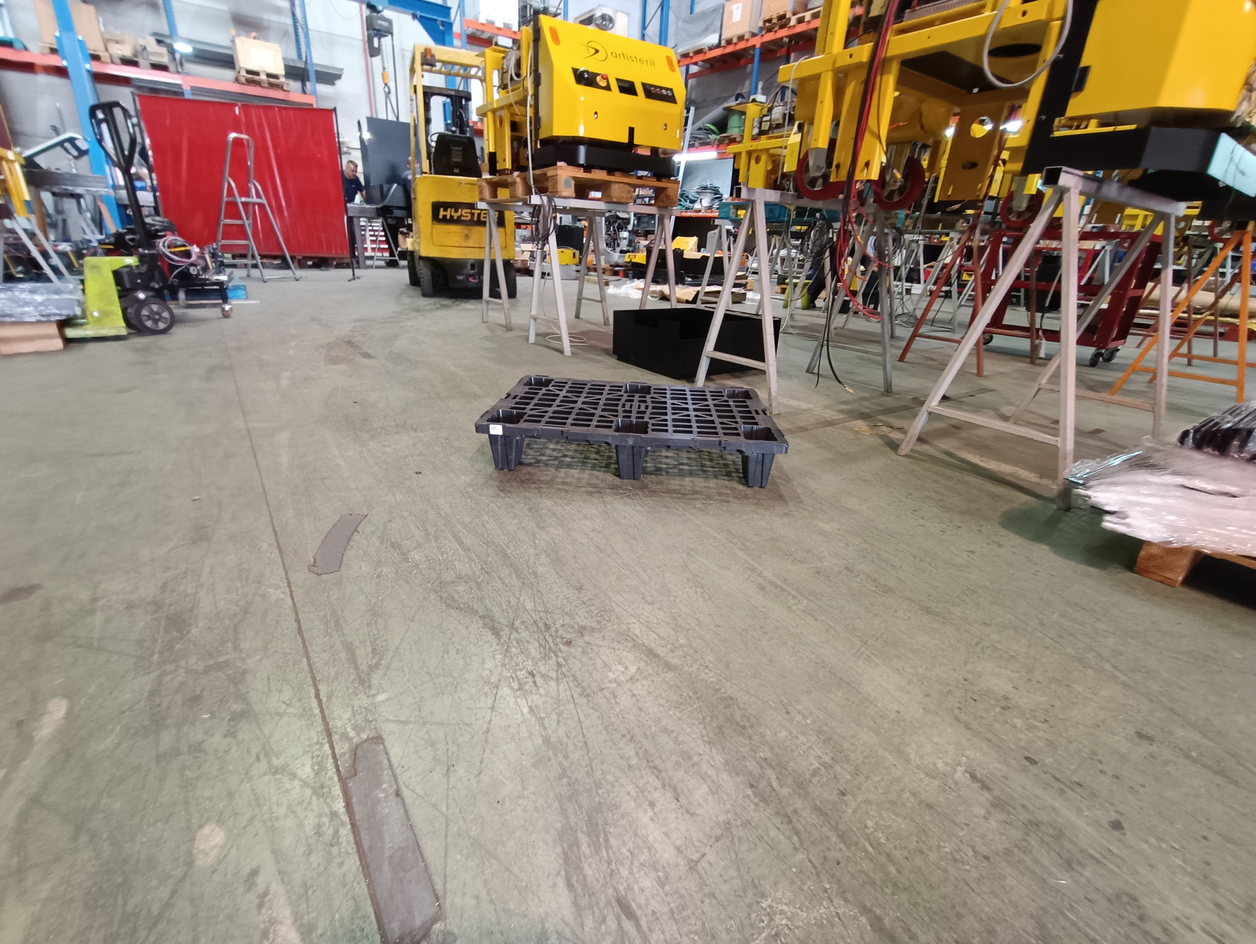block: (735, 431, 790, 491), (613, 430, 653, 487), (481, 422, 524, 468)
front: (479, 426, 786, 494)
hole pallet: (521, 432, 617, 482), (637, 444, 752, 481)
